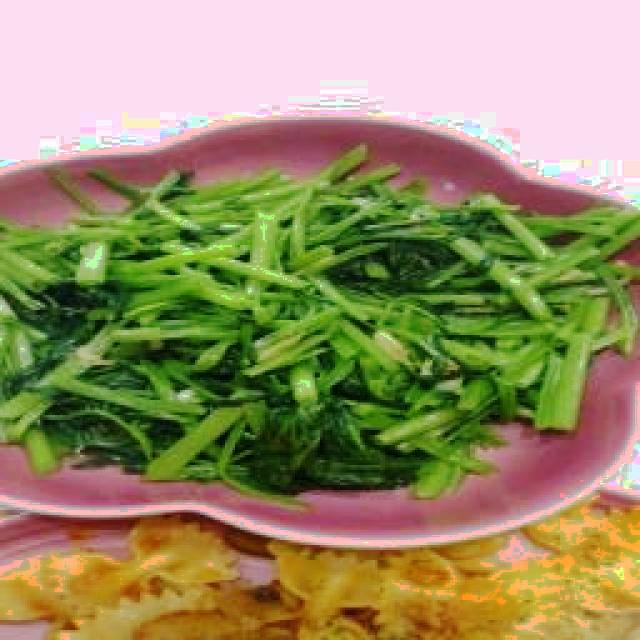water_spinach: (1, 154, 631, 487)
